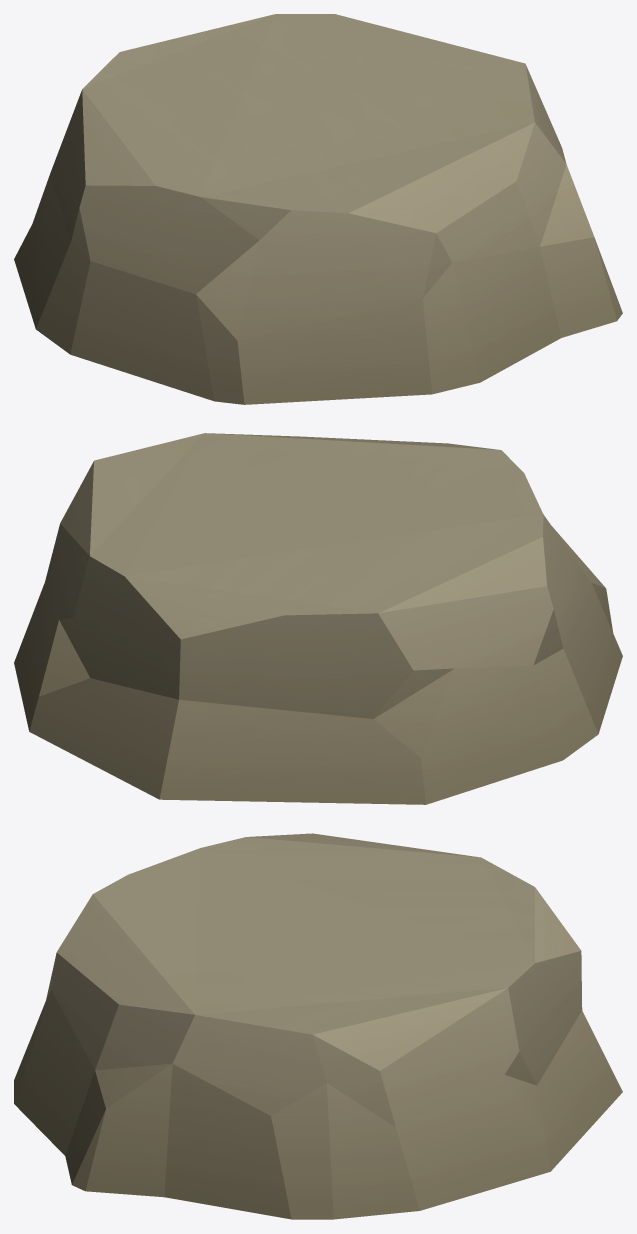
File: Rock_04.fbx
The picture shows the model from 3 angles, top to bottom: view 1: azimuth 30°, elevation 25°; view 2: azimuth 150°, elevation 25°; view 3: azimuth 270°, elevation 25°; orthographic projection. The views are drawn at different scales.
Parts seen in each view (by area): view 1: Rock_04; view 2: Rock_04; view 3: Rock_04.
Part boxes in pixels (box(x1,y1,x2,y2)): Rock_04: box(14, 14, 622, 404); Rock_04: box(14, 433, 622, 804); Rock_04: box(14, 833, 622, 1219).
Bounding box in the file's own units: 421 × 130 × 429.
